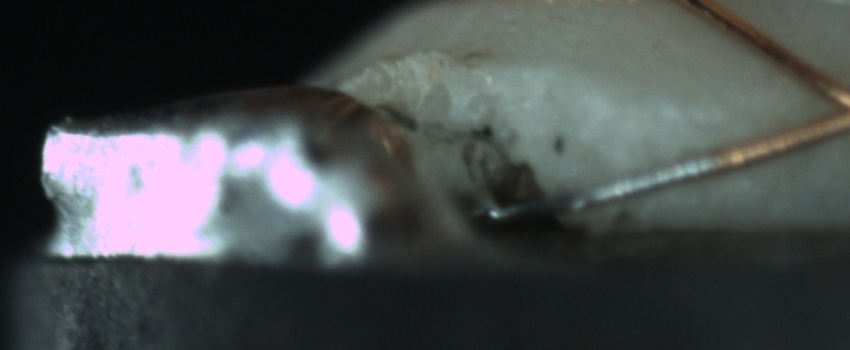TS: (486, 150, 722, 223)
